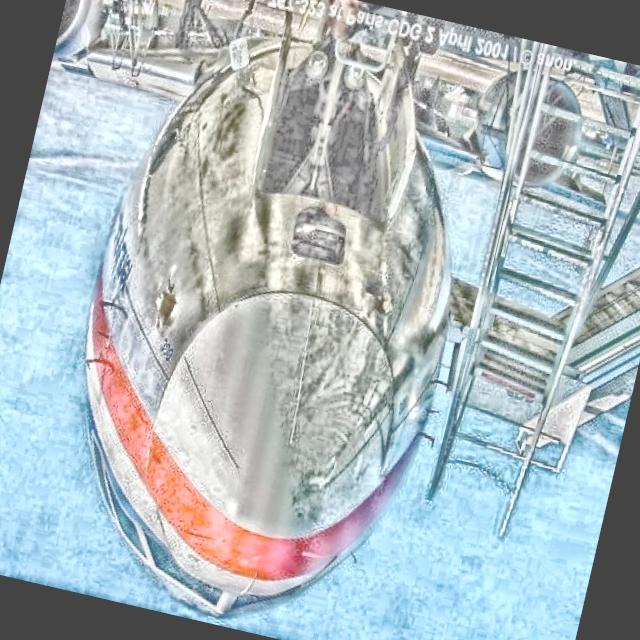dent: (152, 288, 182, 334)
